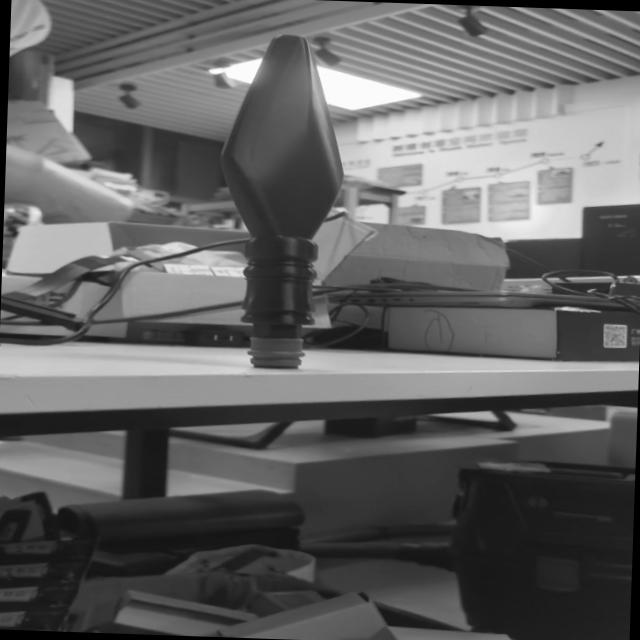base: (243, 333, 310, 372)
